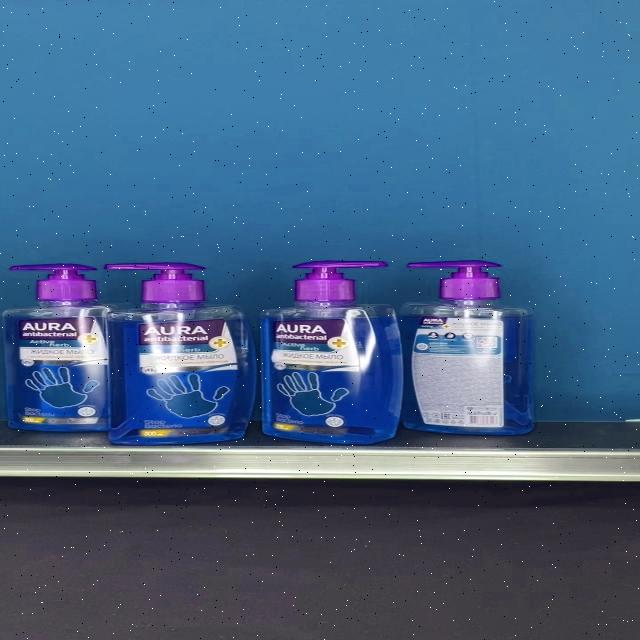Bottle: (107, 263, 258, 445), (261, 259, 403, 444), (399, 260, 535, 435), (5, 264, 136, 430)
Cap: (292, 260, 389, 300), (104, 263, 204, 301), (406, 261, 500, 301), (7, 264, 97, 300)
